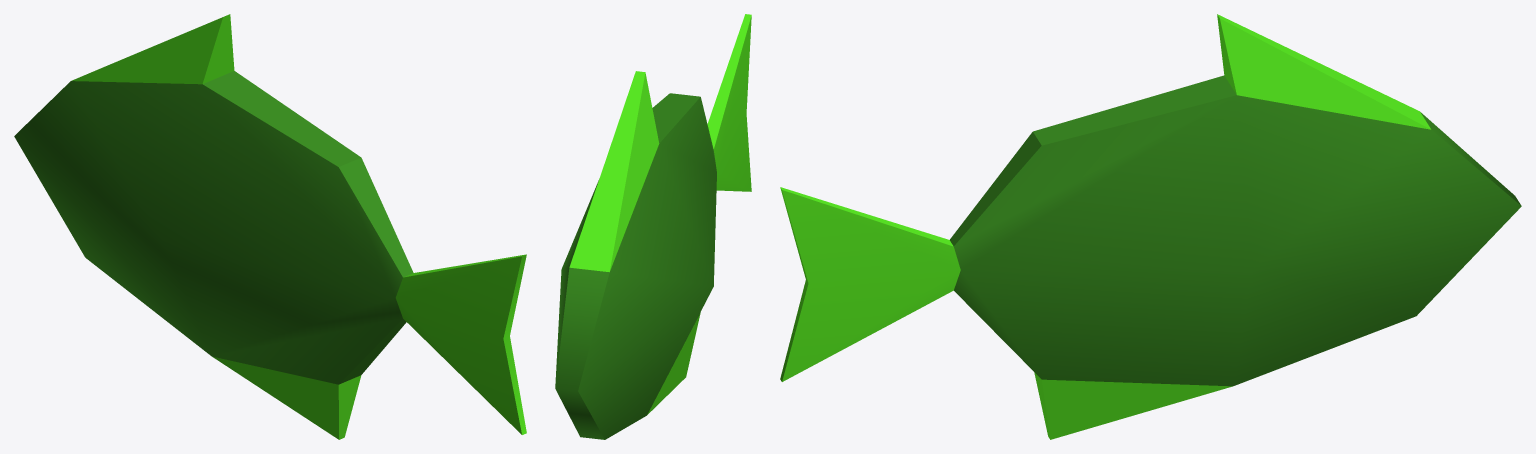
File: fish02.glb
3 views of the same model, side by side, from view 1: azimuth 30°, elevation 25°; view 2: azimuth 150°, elevation 25°; view 3: azimuth 270°, elevation 25° (orthographic). The views are drawn at different scales.
Visible parts, largest first — view 1: fish02, Box033; view 2: fish02, Box033; view 3: fish02, Box033.
Boxes of the visible parts, left/top/right/bottom form: fish02: left=14, top=71, right=413, bottom=384; Box033: left=71, top=14, right=526, bottom=439; fish02: left=555, top=93, right=716, bottom=439; Box033: left=569, top=14, right=751, bottom=414; fish02: left=950, top=75, right=1521, bottom=386; Box033: left=780, top=14, right=1430, bottom=439.
Bounding box in the file's own units: 0.1247 × 0.2596 × 0.4331.
